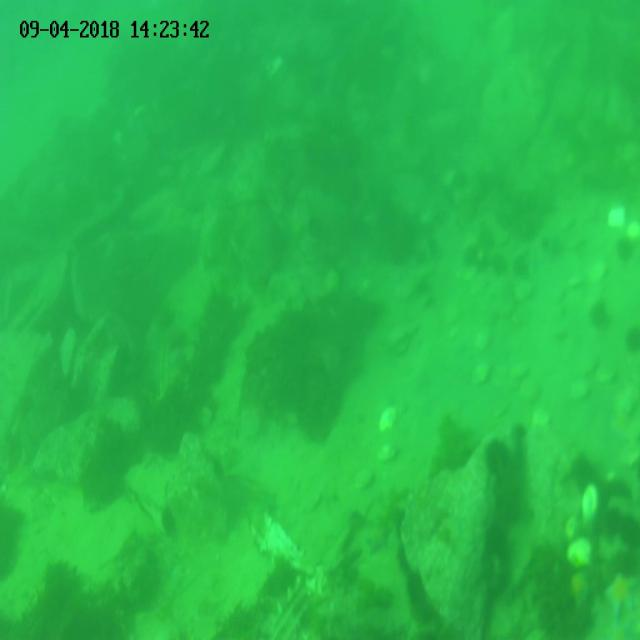echinus: (484, 521, 510, 556), (484, 442, 508, 471), (404, 572, 425, 603), (460, 243, 480, 268), (614, 237, 634, 261), (491, 254, 508, 278), (590, 302, 606, 326), (510, 256, 524, 277)
scallop: (57, 329, 81, 381), (562, 541, 590, 567), (584, 486, 602, 524), (352, 467, 375, 491), (516, 280, 538, 302), (588, 262, 608, 286), (519, 380, 540, 402), (577, 350, 595, 374), (379, 406, 394, 434), (475, 365, 491, 389), (387, 330, 409, 347), (376, 445, 397, 462), (392, 341, 412, 358), (570, 380, 579, 401)
starfish: (604, 569, 638, 617), (570, 573, 590, 602)
